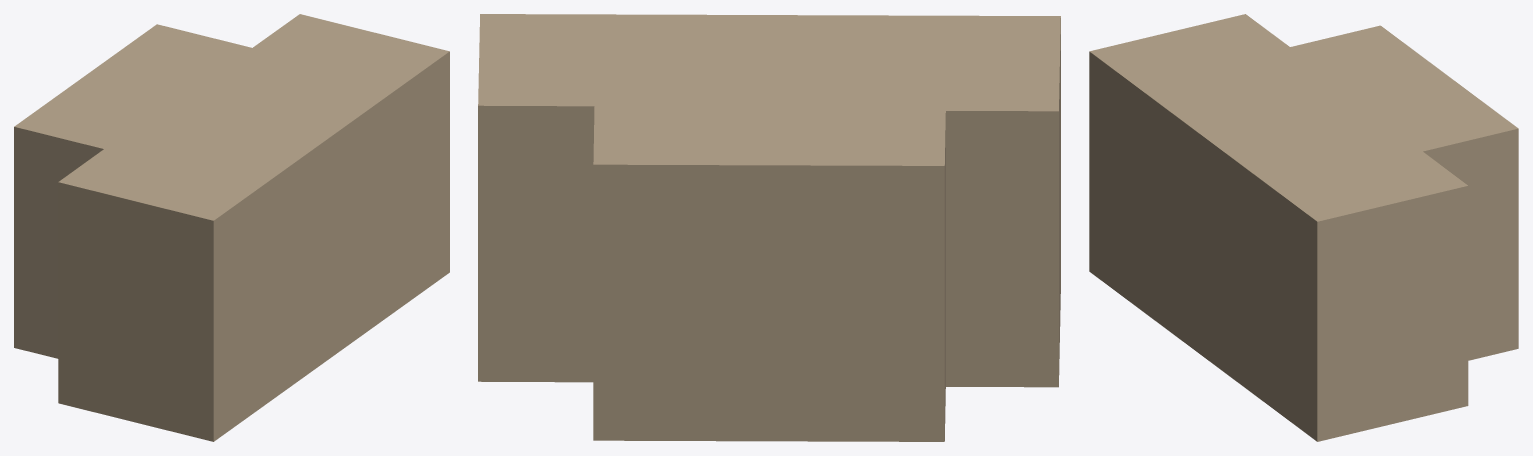
File: bld_106306781.dae
The picture shows the model from 3 angles, left to right: view 1: azimuth 30°, elevation 25°; view 2: azimuth 150°, elevation 25°; view 3: azimuth 270°, elevation 25°; orthographic projection. The views are drawn at different scales.
Visible parts, largest first — view 1: bld_106306781; view 2: bld_106306781; view 3: bld_106306781.
Boxes of the visible parts, x1,y1,x2,y2 form: bld_106306781: (14, 14, 449, 441); bld_106306781: (478, 14, 1060, 441); bld_106306781: (1089, 14, 1518, 441).
Size of the model in its own units: 16.19 by 14.14 by 8.
